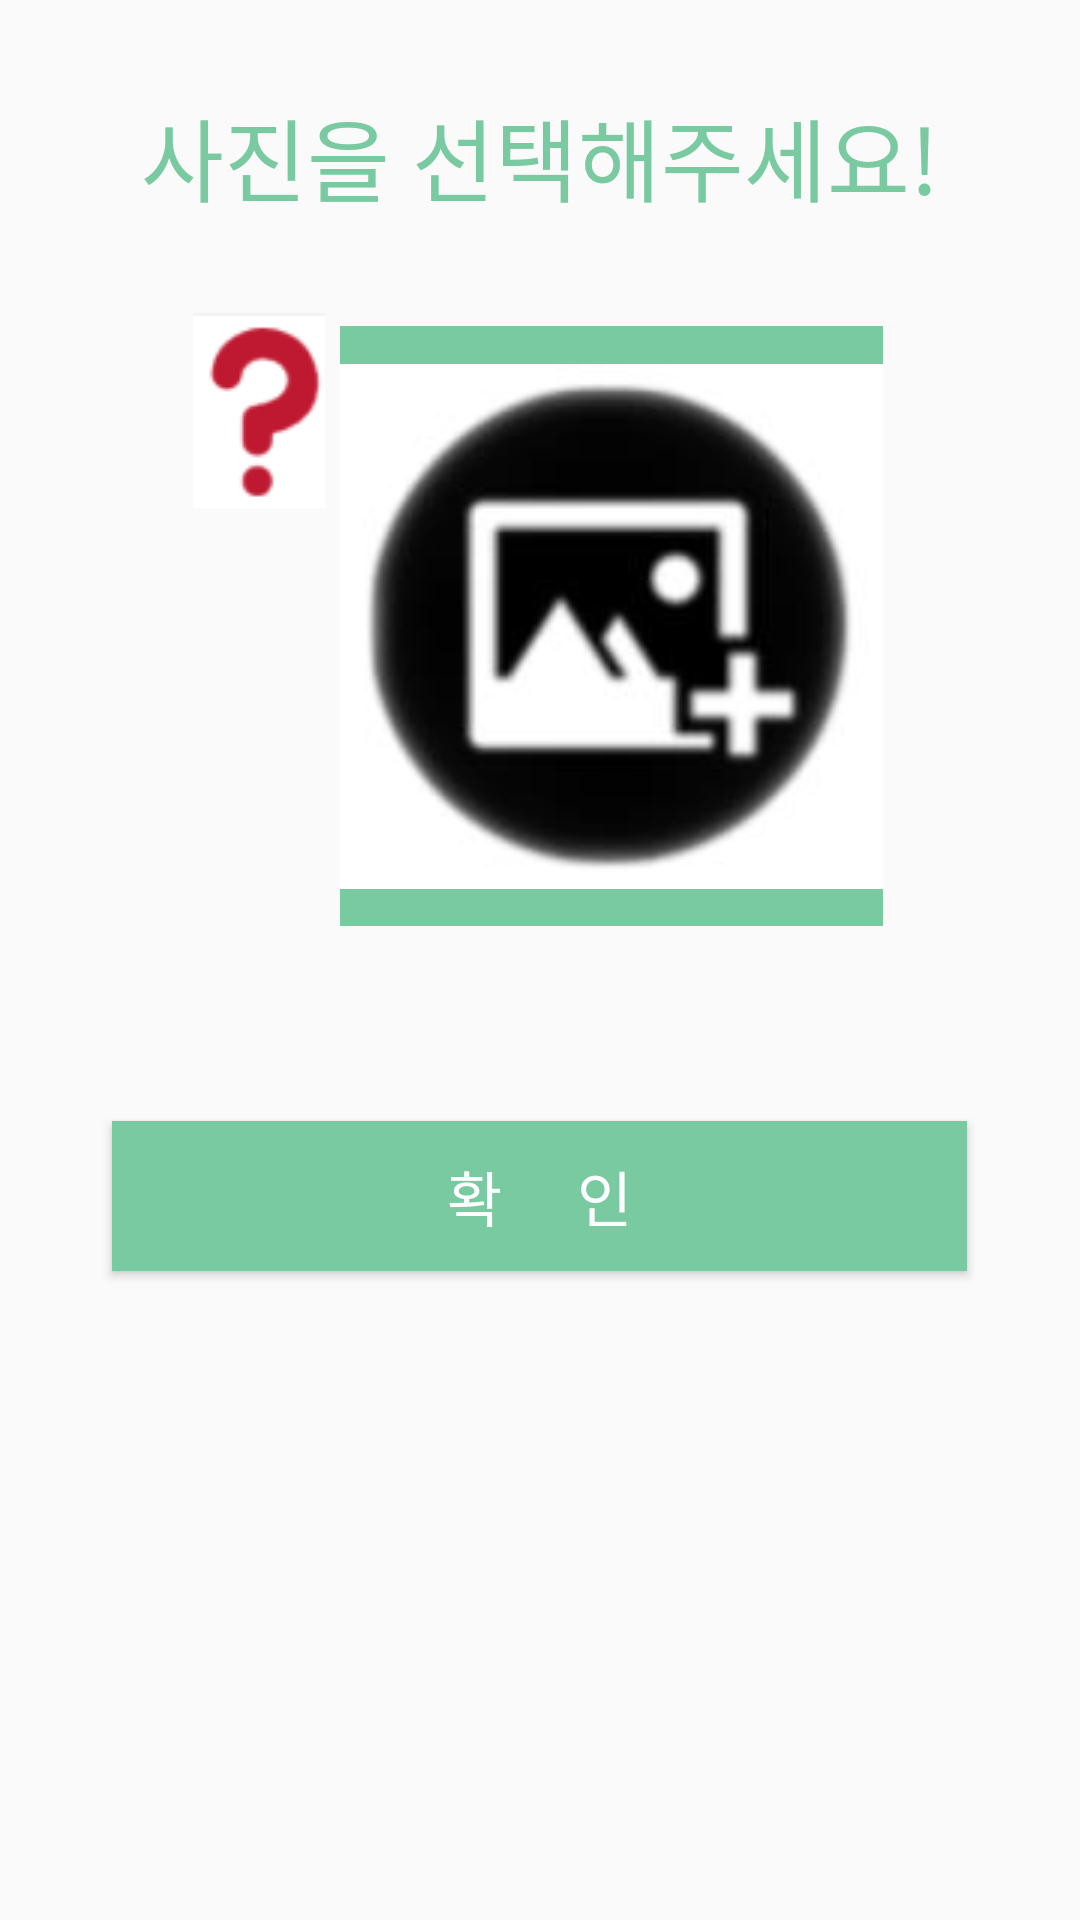

Icon click points for this 1080x1920 phone screenshot, format (x=x, y=y):
question: (x=264, y=412)
